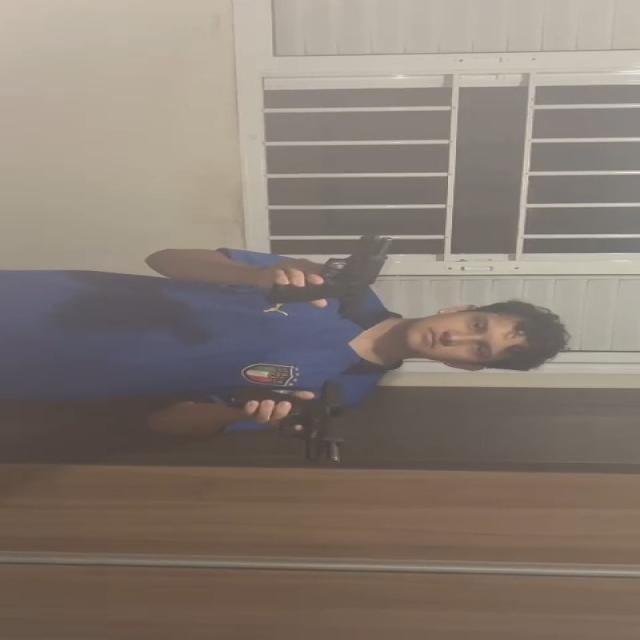gun: (240, 381, 352, 462), (272, 233, 396, 304)
